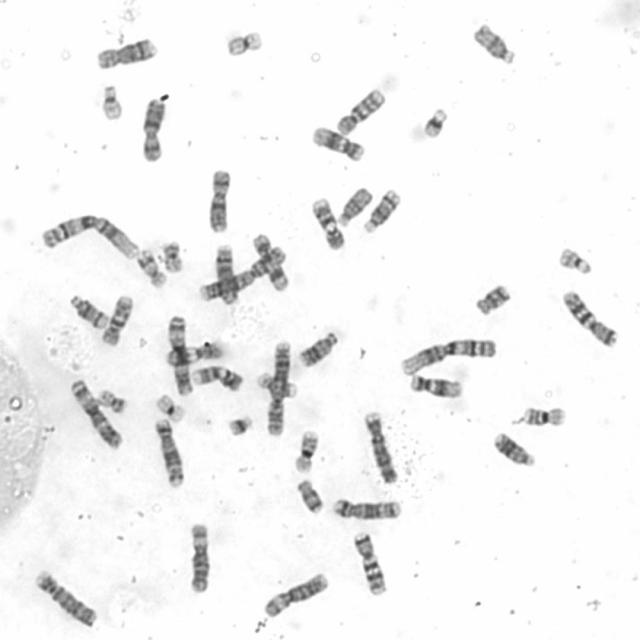A1: (40, 211, 140, 262), (399, 338, 498, 376)
A2: (197, 245, 289, 302), (266, 341, 292, 436)
A3: (69, 378, 125, 451), (167, 314, 194, 396)
B4: (35, 569, 99, 630), (362, 410, 401, 486)
B5: (152, 419, 185, 488), (334, 496, 402, 520)
C10: (336, 85, 388, 135), (100, 294, 134, 347)
C11: (254, 232, 288, 294), (165, 342, 225, 366)
C12: (314, 126, 365, 163), (409, 373, 462, 400)
C6: (265, 571, 327, 618), (189, 523, 211, 593)
C7: (561, 289, 620, 349), (352, 532, 388, 597)
C8: (96, 37, 158, 71), (215, 242, 239, 305)
C9: (310, 197, 346, 250), (193, 364, 244, 392)
D13: (492, 429, 538, 468), (296, 329, 340, 368)
D14: (364, 188, 399, 234), (70, 293, 110, 330)
D15: (471, 21, 517, 64), (335, 185, 373, 228)
E16: (294, 428, 320, 472), (523, 403, 568, 428)
E17: (134, 249, 167, 288), (257, 370, 299, 399)
E18: (474, 283, 512, 316), (295, 478, 324, 515)
F19: (222, 29, 266, 58), (155, 392, 187, 424)
F20: (161, 240, 184, 274), (97, 389, 127, 413)
G21: (421, 106, 448, 140), (225, 412, 255, 438)
G22: (553, 244, 596, 276), (97, 83, 125, 121)
X: (206, 168, 233, 234), (140, 98, 166, 162)
